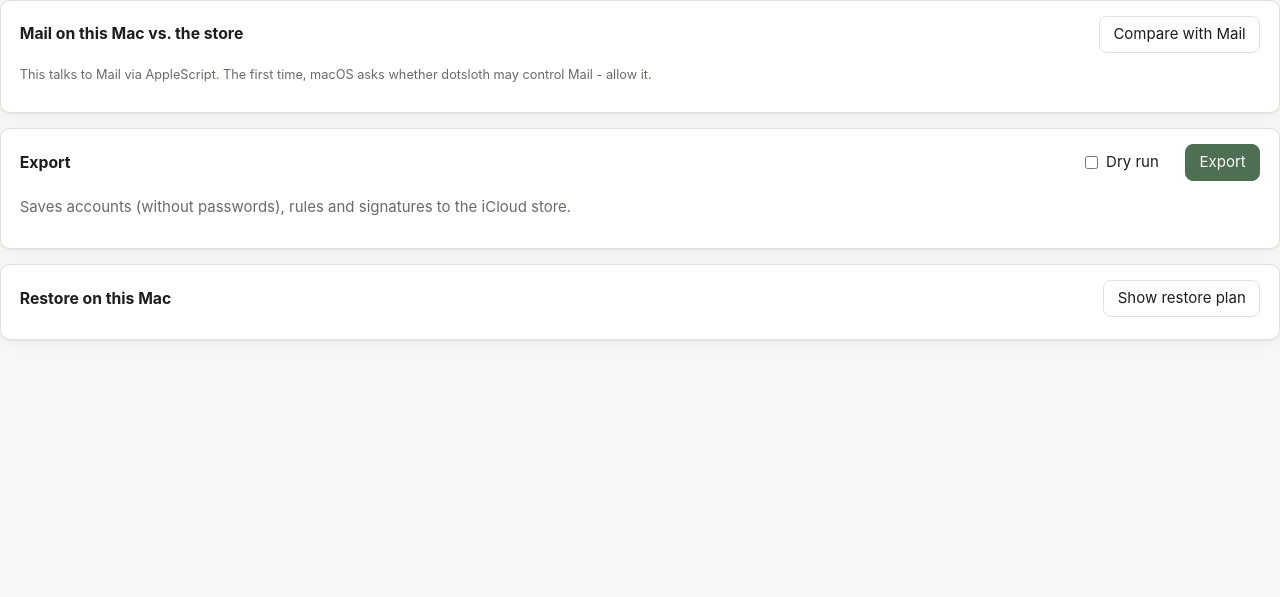
it: mail page › does not touch Mail until asked
What coordinates should you click on to do the following:
click the button "Compare with Mail"
I would click on:
 (1180, 34)
Its box is [1099,16,1260,52].
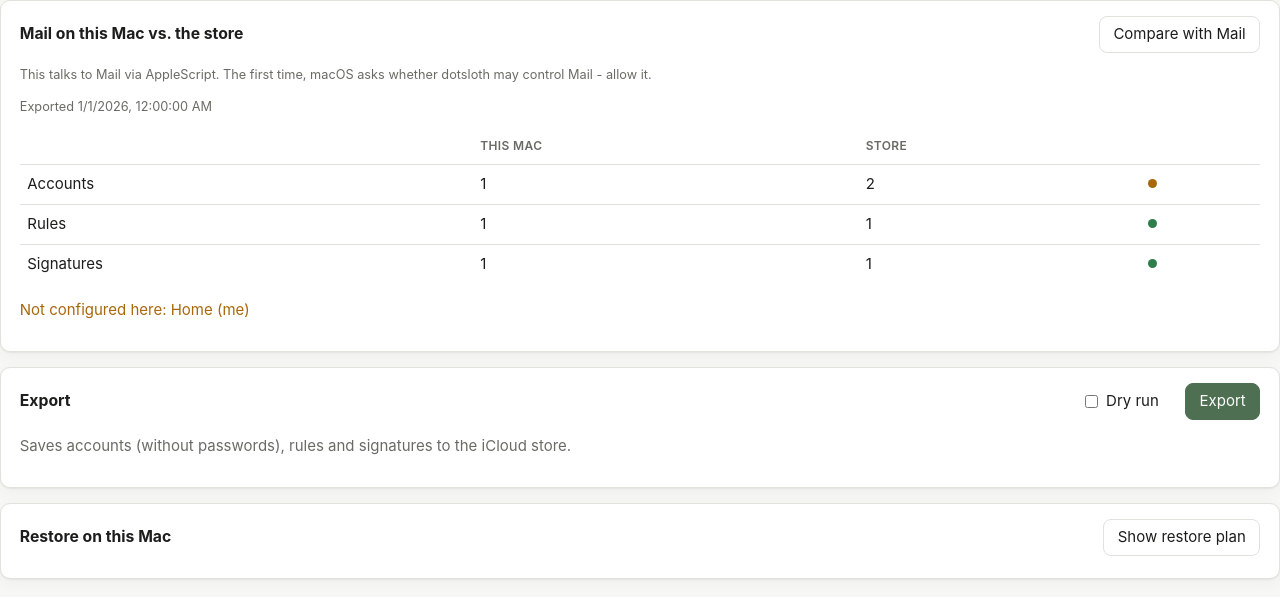
Result: the text "Not configured here: Home (me)" is shown at [20,300,250,318]
